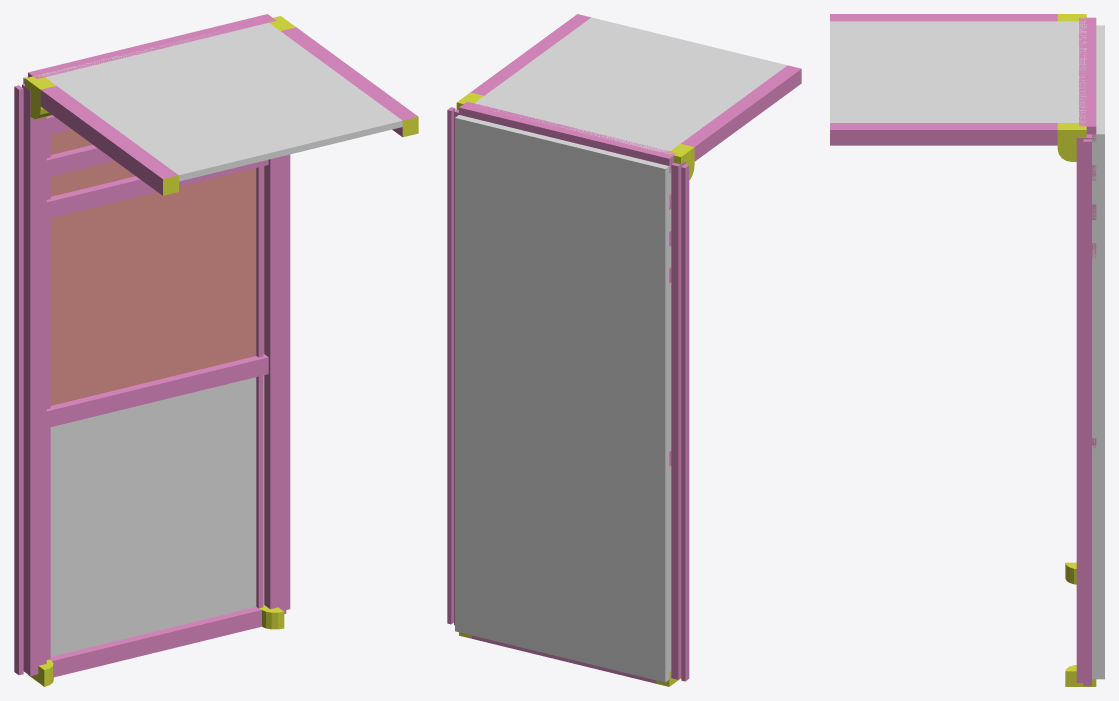
Rendered from Wall test.fbx.
The picture shows the model from 3 angles, left to right: view 1: azimuth 30°, elevation 25°; view 2: azimuth 150°, elevation 25°; view 3: azimuth 270°, elevation 25°; orthographic projection. The views are drawn at different scales.
Parts seen in each view (by area): view 1: Cube.009, Cube.017, Cube.013, Cube.010, Cube.011, Cube.015; view 2: Cube.009, Cube.017, Cube.013, Cube.010, Cube.011, Cube.015; view 3: Cube.017, Cube.009, Cube.013, Cube.010, Cube.011, Cube.015.
Boxes of the visible parts, bbox=[...] form: Cube.009: bbox=[23, 76, 264, 656]; Cube.017: bbox=[25, 16, 418, 195]; Cube.013: bbox=[14, 84, 290, 424]; Cube.010: bbox=[14, 358, 290, 675]; Cube.011: bbox=[28, 14, 276, 419]; Cube.015: bbox=[28, 366, 284, 686]; Cube.009: bbox=[455, 115, 671, 682]; Cube.017: bbox=[456, 14, 801, 179]; Cube.013: bbox=[447, 107, 689, 461]; Cube.010: bbox=[447, 402, 689, 681]; Cube.011: bbox=[459, 101, 676, 459]; Cube.015: bbox=[459, 458, 680, 686]; Cube.017: bbox=[830, 14, 1086, 161]; Cube.009: bbox=[1092, 25, 1104, 679]; Cube.013: bbox=[1076, 134, 1091, 452]; Cube.010: bbox=[1076, 449, 1091, 686]; Cube.011: bbox=[1079, 17, 1096, 445]; Cube.015: bbox=[1065, 446, 1096, 686].
Bounding box in the file's own units: 3.4 × 7.2 × 3.2.
